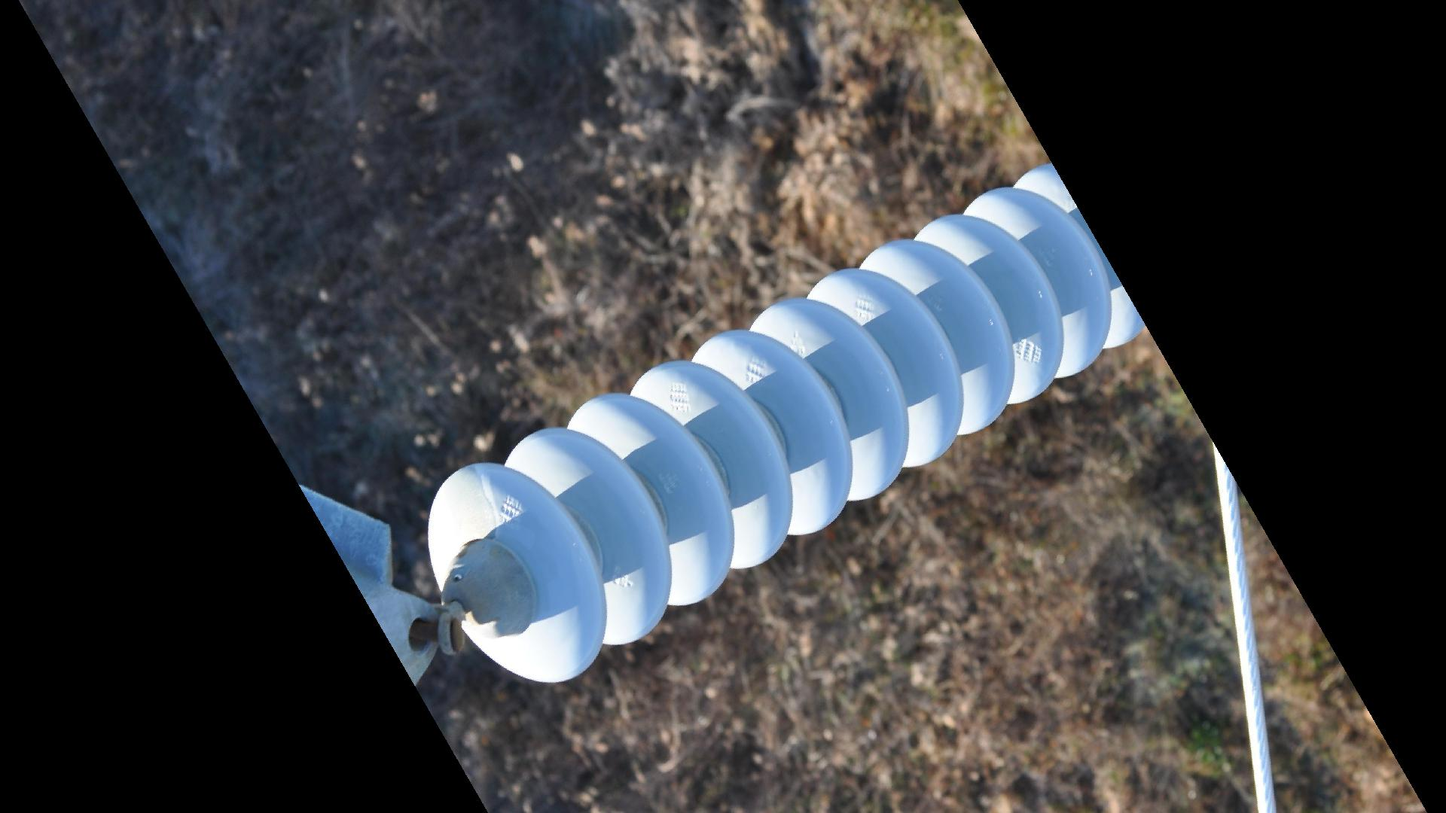insulator: (417, 154, 1151, 690)
insulator_flashover: (431, 461, 499, 551)
